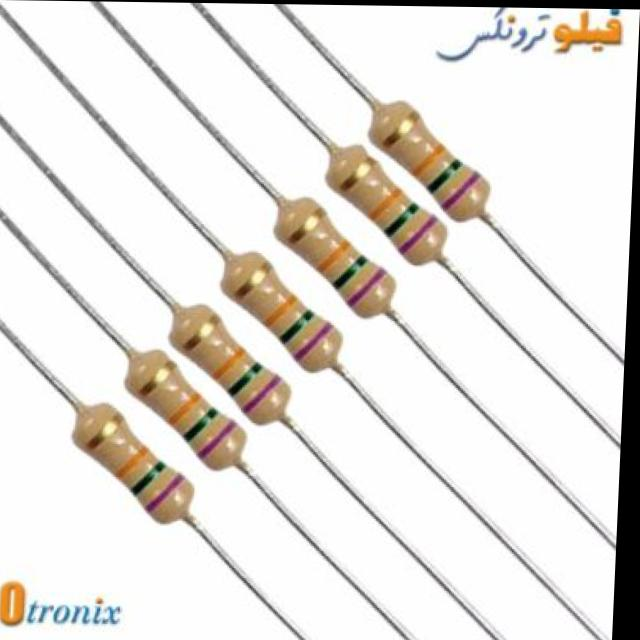Capacitor: (74, 404, 199, 525), (373, 99, 495, 221), (222, 252, 345, 372), (277, 197, 398, 318), (173, 304, 295, 424), (329, 144, 451, 262), (132, 350, 247, 470)
